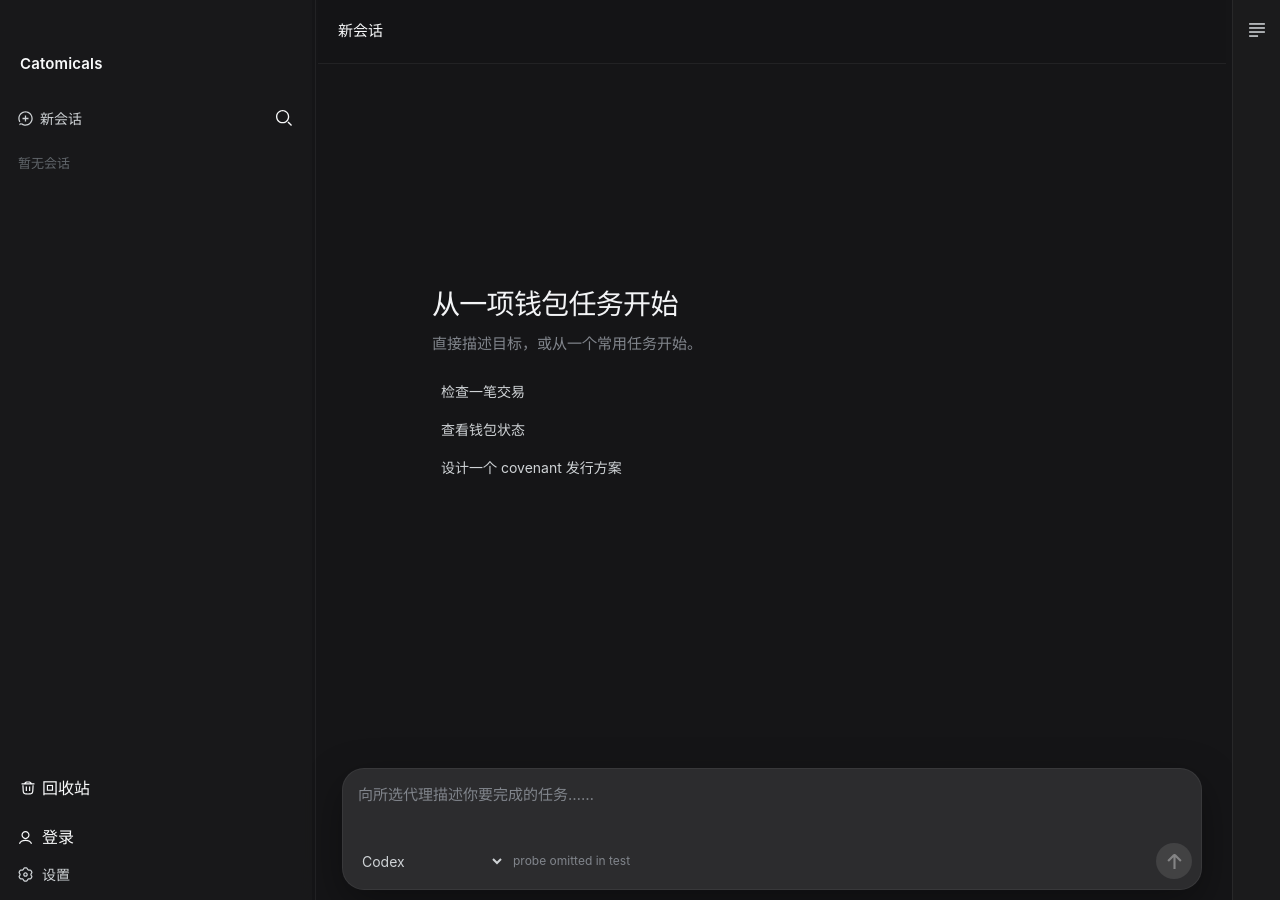
Test: session-backed conversation › generates the first successful turn title in an isolated executor session
Type "帮我检查这笔 Bitcoin 交易" into the text box with placeholder "向所选代理描述你要完成的任务……".
click(772, 805); type("帮我检查这笔 Bitcoin 交易")  # box [343,769,1201,841]
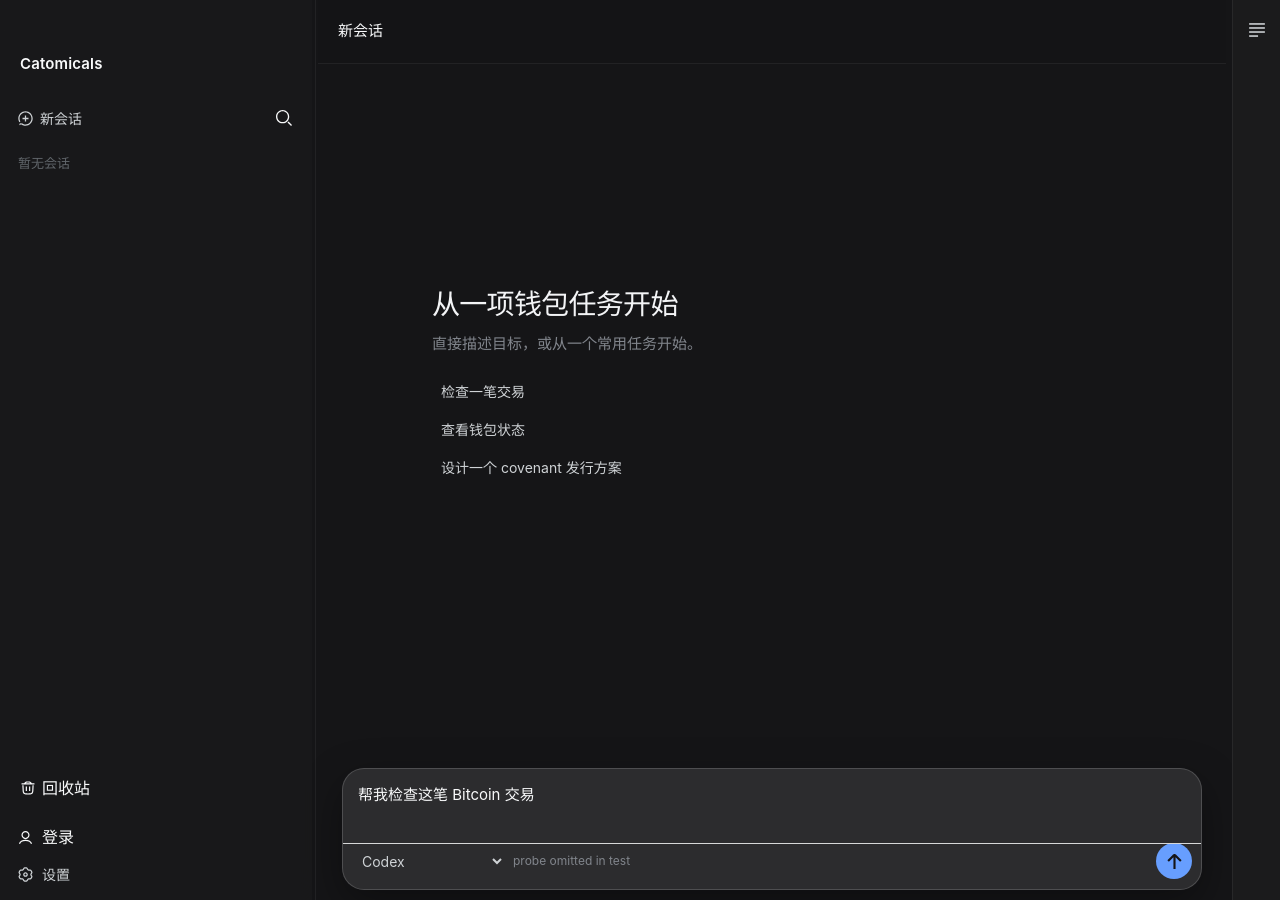
Click the button named "发送消息".
click(1174, 861)  # box [1156,843,1192,879]
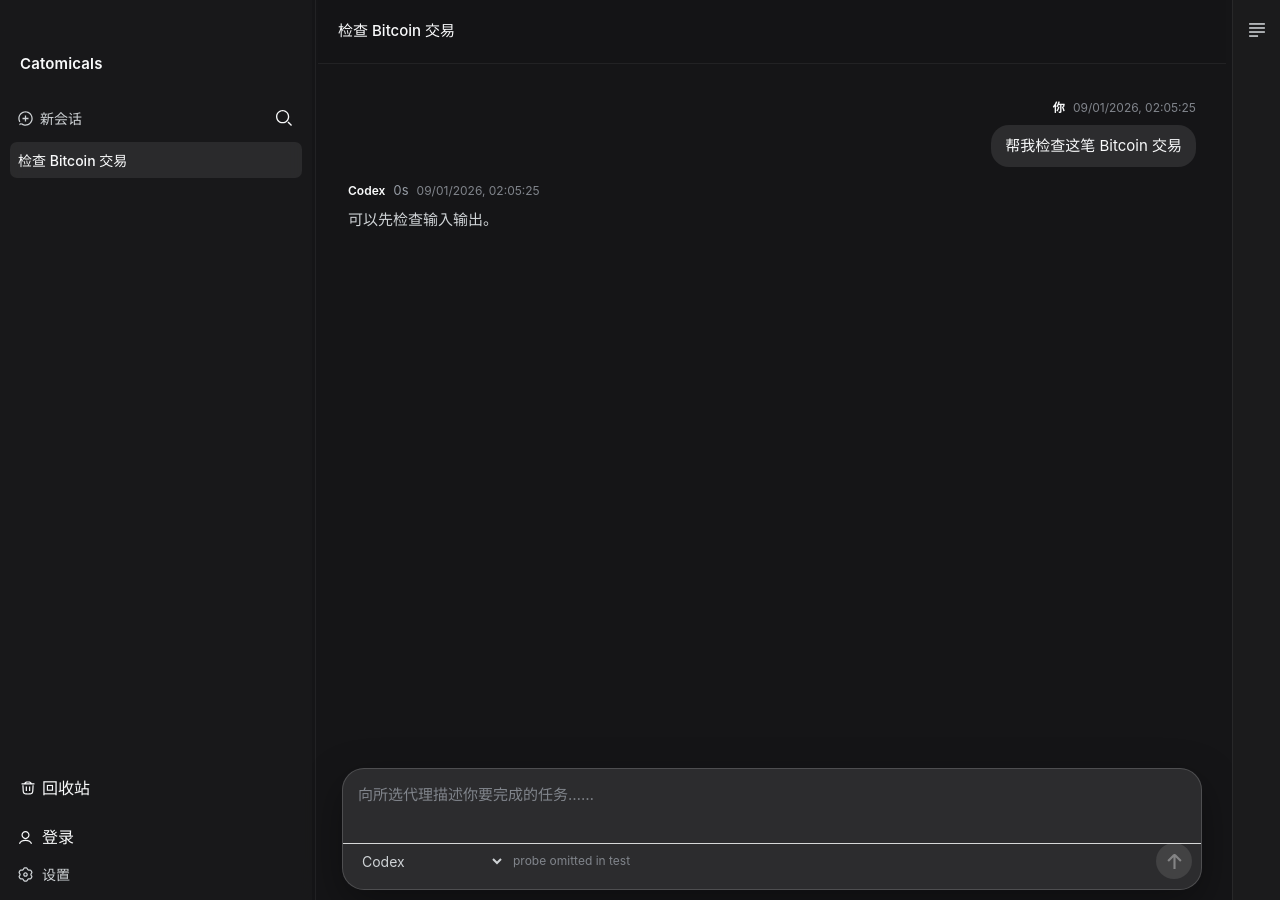
Result: the text "可以先检查输入输出。" is shown at [348,210,498,228]
